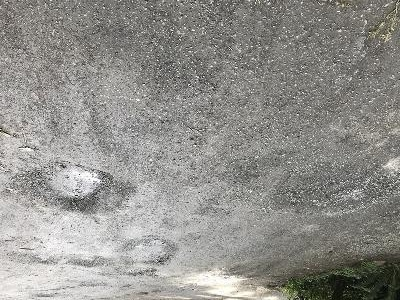pothole: (266, 160, 399, 218), (23, 159, 131, 214), (113, 236, 180, 267), (3, 233, 60, 266), (67, 253, 109, 269)
